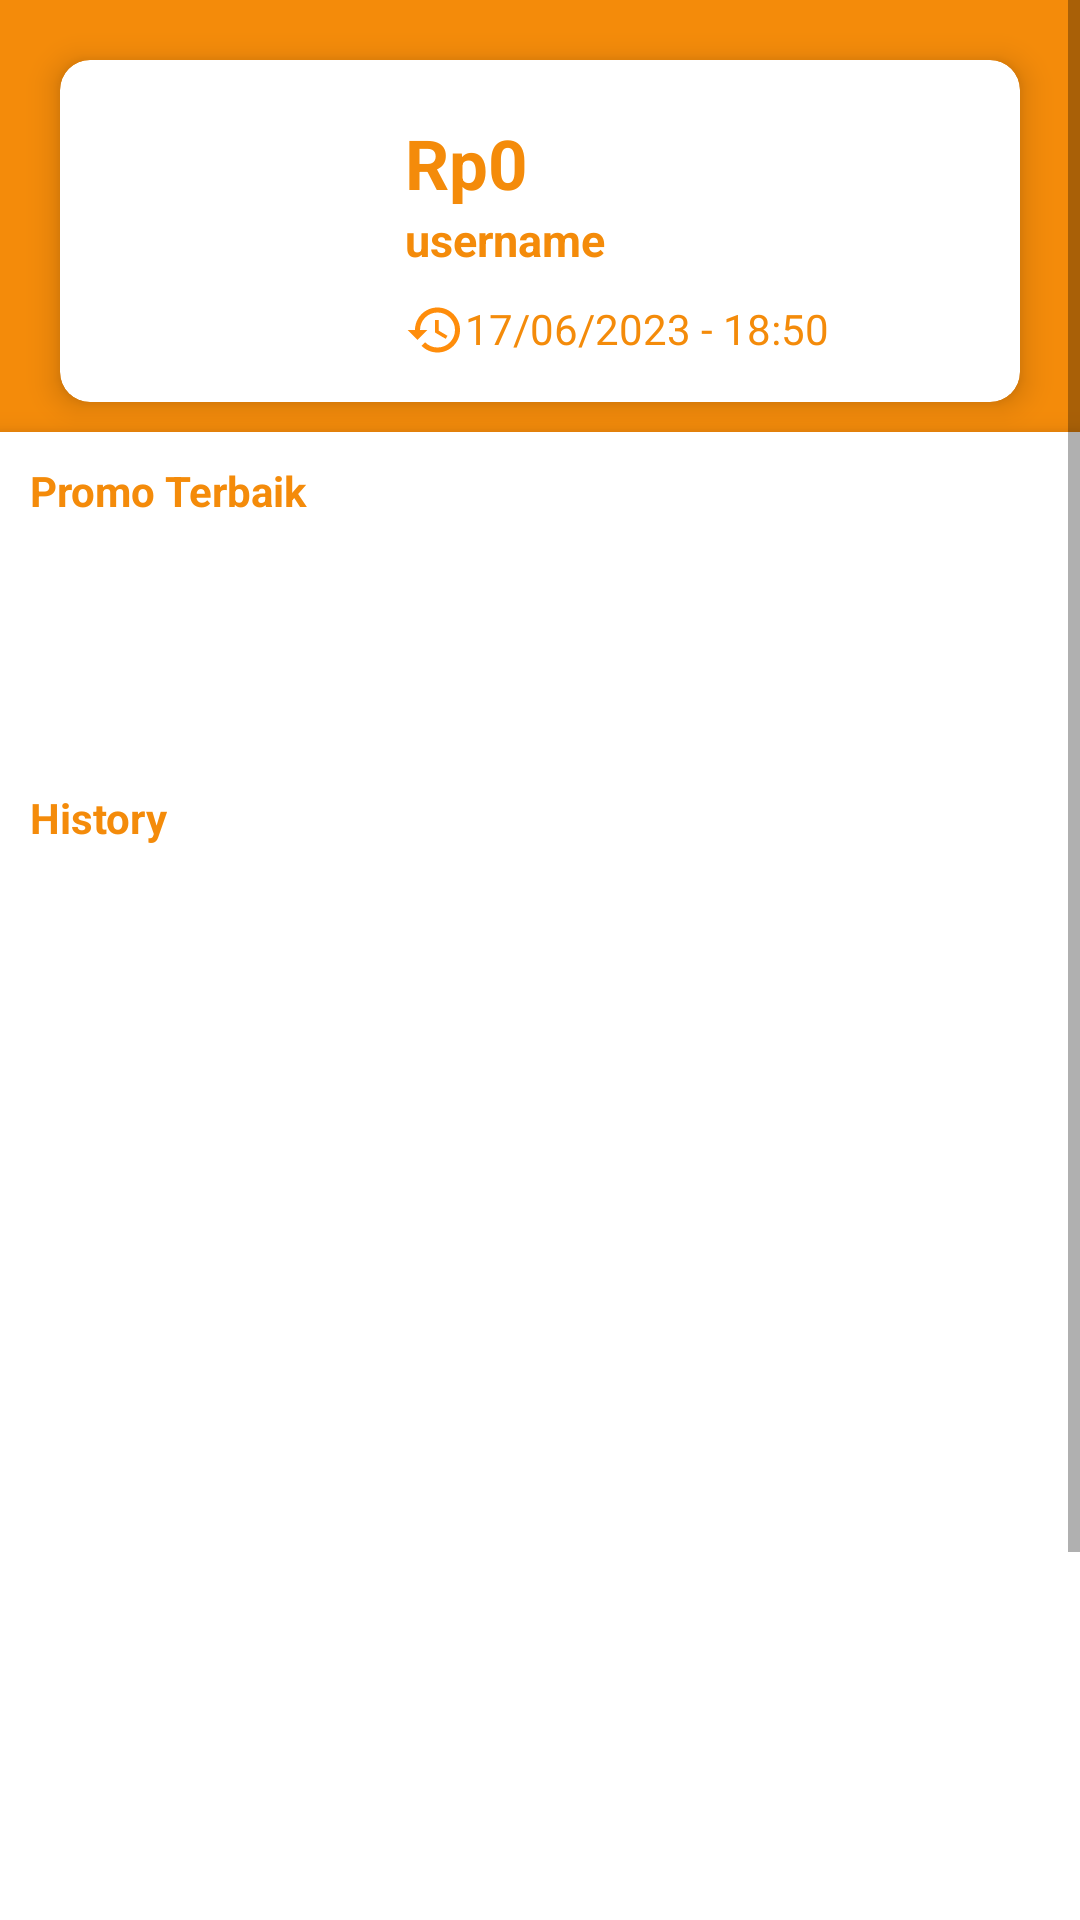

Screen size 1080 x 1920. Icon name, then its box in pixels as [x1, y1, x2, y2]:
history: [408, 307, 460, 353]
